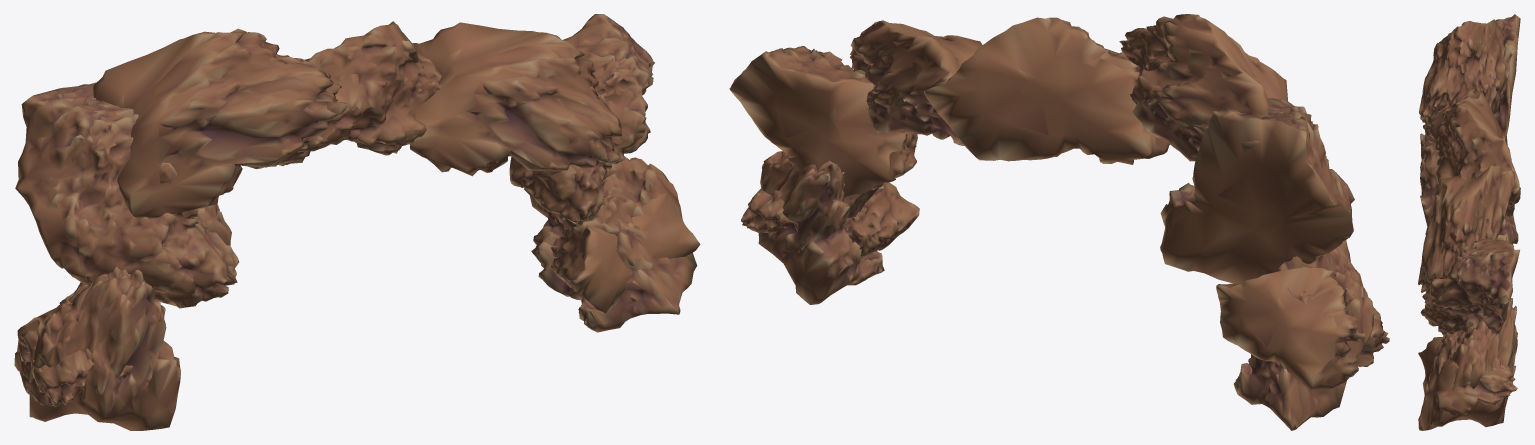
The model's file is canyon-arch-v3.glb.
3 views of the same model, side by side, from view 1: azimuth 30°, elevation 25°; view 2: azimuth 150°, elevation 25°; view 3: azimuth 270°, elevation 25° (orthographic). The views are drawn at different scales.
Visible parts, largest first — view 1: canyon-arch-v3; view 2: canyon-arch-v3; view 3: canyon-arch-v3.
Part boxes in pixels (x1,y1,x2,y2): canyon-arch-v3: (14, 14, 700, 430); canyon-arch-v3: (729, 14, 1389, 430); canyon-arch-v3: (1418, 14, 1520, 430).
Bounding box in the file's own units: 170 × 94 × 33.
